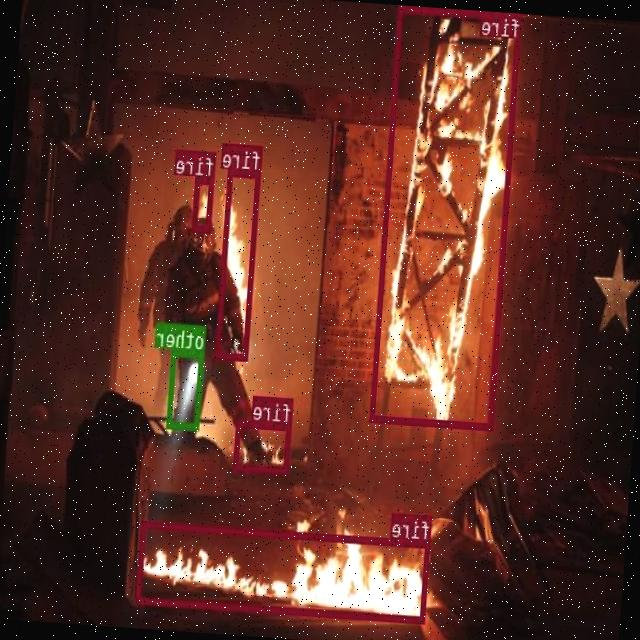fire: (370, 4, 523, 430), (136, 520, 431, 622), (216, 167, 262, 359), (234, 419, 292, 473), (193, 175, 215, 231)
